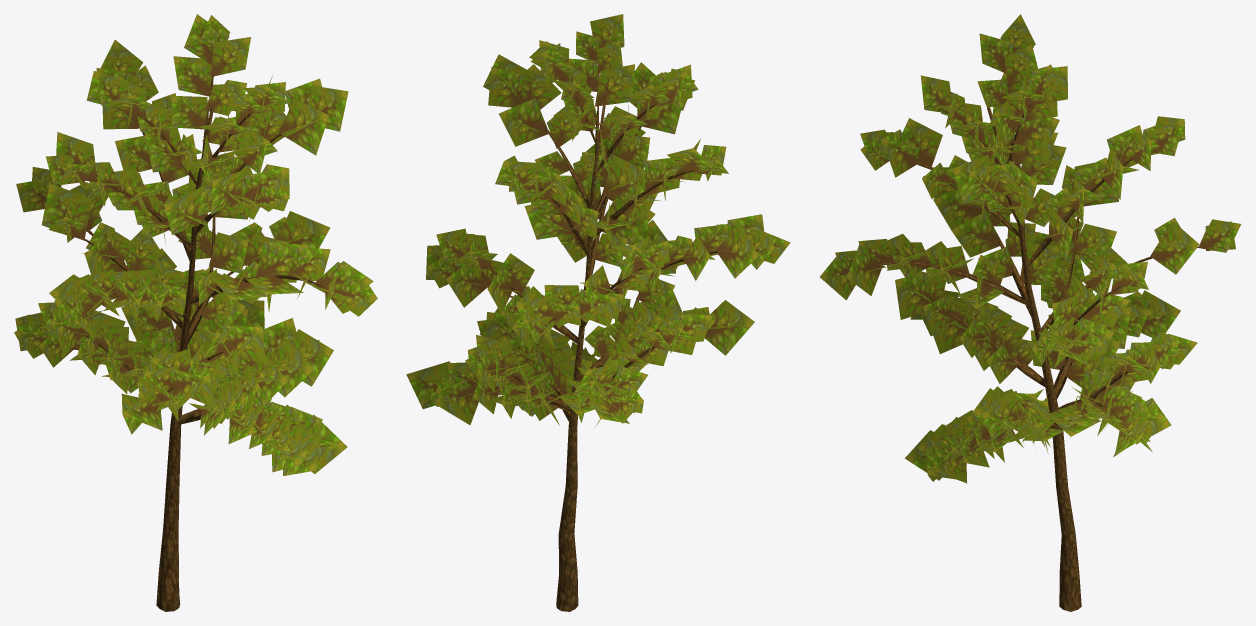
Rendered from Tree1.fbx.
The picture shows the model from 3 angles, left to right: view 1: azimuth 30°, elevation 25°; view 2: azimuth 150°, elevation 25°; view 3: azimuth 270°, elevation 25°; orthographic projection. The views are drawn at different scales.
Parts seen in each view (by area): view 1: branch_1, textureplane_oaktiled_albedotransparency_0; view 2: branch_1, textureplane_oaktiled_albedotransparency_0; view 3: branch_1, textureplane_oaktiled_albedotransparency_0.
Boxes of the visible parts, x1,y1,x2,y2 form: branch_1: [14, 14, 377, 475]; textureplane_oaktiled_albedotransparency_0: [62, 76, 325, 611]; branch_1: [406, 14, 790, 426]; textureplane_oaktiled_albedotransparency_0: [483, 73, 718, 611]; branch_1: [820, 14, 1241, 483]; textureplane_oaktiled_albedotransparency_0: [878, 85, 1200, 611].
Bounding box in the file's own units: 395 × 687 × 471.
